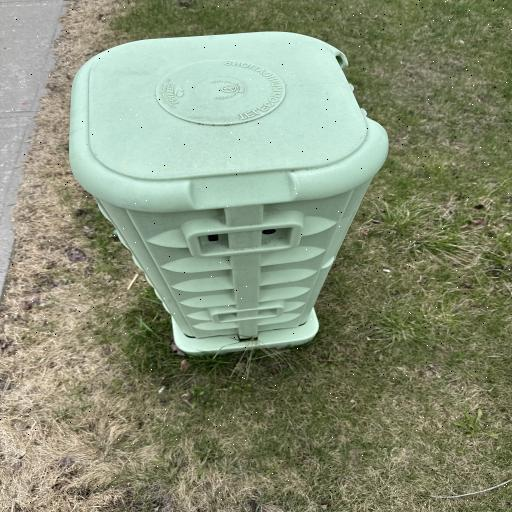Electrical Box: (71, 31, 386, 356)
